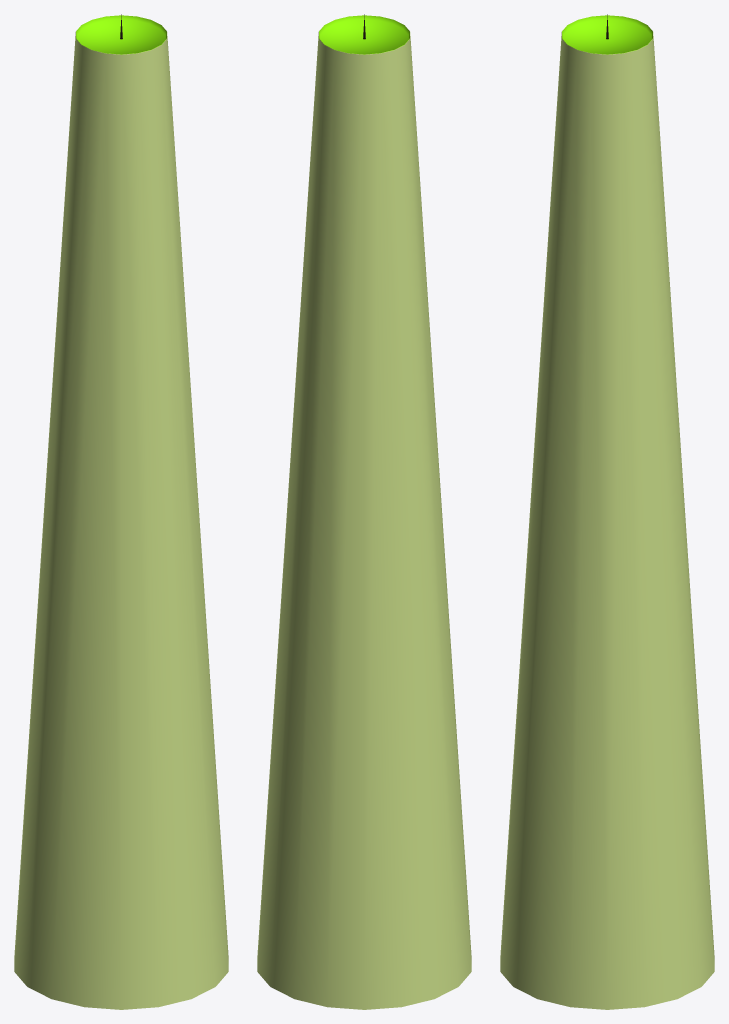
File: swieczka05.FBX
3 views of the same model, side by side, from view 1: azimuth 30°, elevation 25°; view 2: azimuth 150°, elevation 25°; view 3: azimuth 270°, elevation 25° (orthographic).
Parts seen in each view (by area): view 1: Cylinder002; view 2: Cylinder002; view 3: Cylinder002.
Part boxes in pixels (x1,y1,x2,y2): Cylinder002: [14, 14, 228, 1009]; Cylinder002: [257, 14, 471, 1009]; Cylinder002: [500, 14, 714, 1009].
Size of the model in its own units: 2.53 by 12.19 by 2.49.
